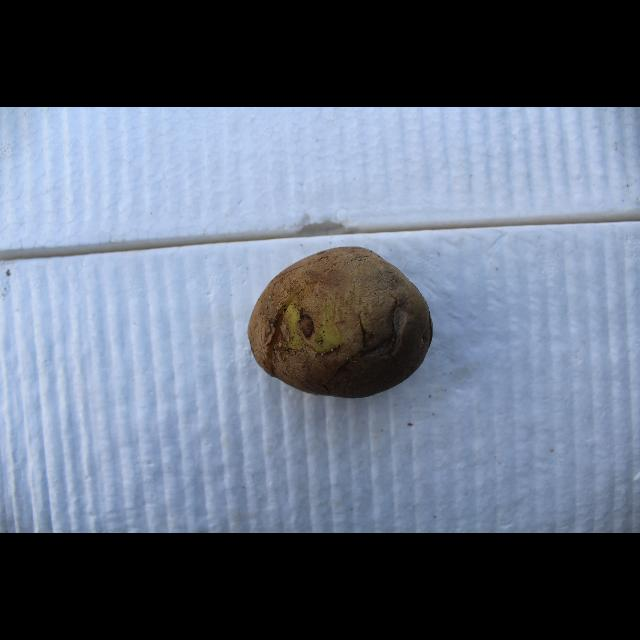Diseased-fungal potato: (246, 245, 437, 400)
